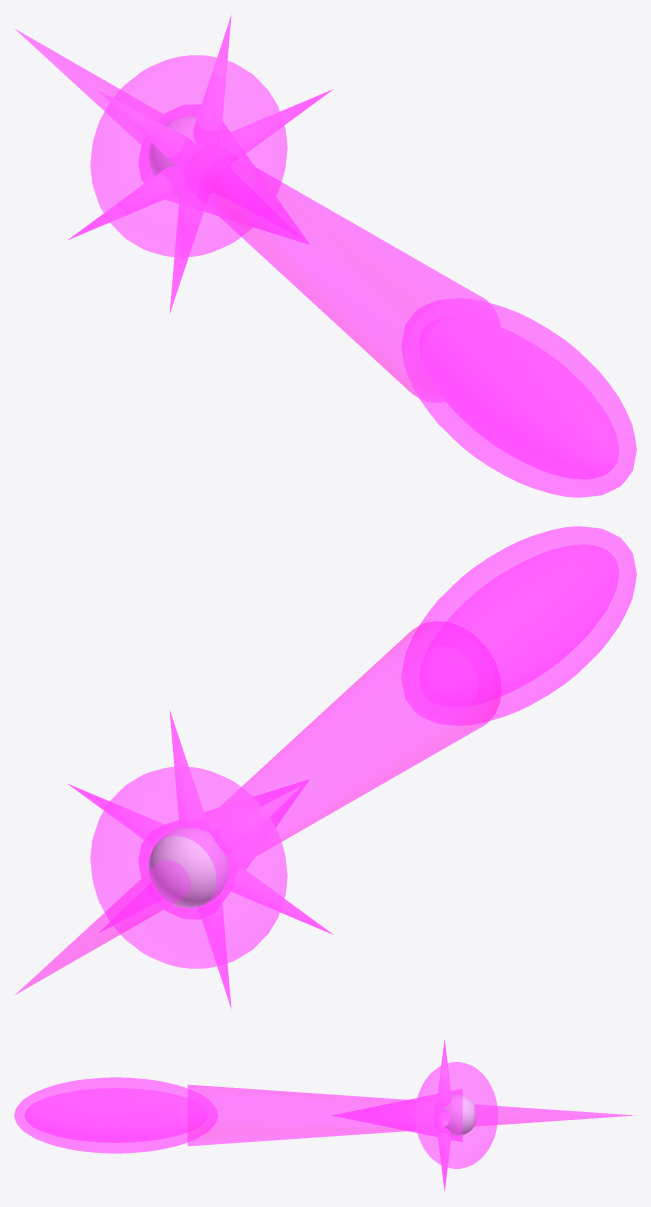
The model's file is Blaster_Bolt.fbx.
3 renders of one model, top to bottom at view 1: azimuth 30°, elevation 25°; view 2: azimuth 150°, elevation 25°; view 3: azimuth 270°, elevation 25°, orthographic. The views are drawn at different scales.
Parts seen in each view (by area): view 1: Blaster_Bolt_Pro_Glass_pink_0.45, Blaster_Bolt_Pro_Glass_pink_0.35, Blaster_Bolt_Pro_Glass_pink_0.4, Blaster_Bolt_Pro_Glow_pink_12, Blaster_Bolt_Pro_Glow_pink_14, Blaster_Bolt_Pro_Glass_pink_0.5, Blaster_Bolt_Pro_Glow_white_25; view 2: Blaster_Bolt_Pro_Glass_pink_0.45, Blaster_Bolt_Pro_Glass_pink_0.35, Blaster_Bolt_Pro_Glass_pink_0.4, Blaster_Bolt_Pro_Glow_pink_12, Blaster_Bolt_Pro_Glow_pink_14, Blaster_Bolt_Pro_Glass_pink_0.5, Blaster_Bolt_Pro_Glow_white_25; view 3: Blaster_Bolt_Pro_Glass_pink_0.35, Blaster_Bolt_Pro_Glass_pink_0.45, Blaster_Bolt_Pro_Glow_pink_12, Blaster_Bolt_Pro_Glass_pink_0.4, Blaster_Bolt_Pro_Glass_pink_0.5, Blaster_Bolt_Pro_Glow_pink_14, Blaster_Bolt_Pro_Glow_white_25.
Part boxes in pixels (x1,y1,x2,y2): Blaster_Bolt_Pro_Glass_pink_0.45: (401,298,636,497); Blaster_Bolt_Pro_Glass_pink_0.35: (15,29,499,402); Blaster_Bolt_Pro_Glass_pink_0.4: (90,55,287,257); Blaster_Bolt_Pro_Glow_pink_12: (419,316,618,479); Blaster_Bolt_Pro_Glow_pink_14: (67,14,333,313); Blaster_Bolt_Pro_Glass_pink_0.5: (138,104,309,244); Blaster_Bolt_Pro_Glow_white_25: (149,116,222,194); Blaster_Bolt_Pro_Glass_pink_0.45: (401,526,636,725); Blaster_Bolt_Pro_Glass_pink_0.35: (15,621,501,994); Blaster_Bolt_Pro_Glass_pink_0.4: (90,767,287,968); Blaster_Bolt_Pro_Glow_pink_12: (419,544,618,707); Blaster_Bolt_Pro_Glow_pink_14: (67,710,333,1009); Blaster_Bolt_Pro_Glass_pink_0.5: (138,779,309,919); Blaster_Bolt_Pro_Glow_white_25: (148,828,228,907); Blaster_Bolt_Pro_Glass_pink_0.35: (187,1084,636,1146); Blaster_Bolt_Pro_Glass_pink_0.45: (14,1077,217,1153); Blaster_Bolt_Pro_Glow_pink_12: (24,1088,207,1142); Blaster_Bolt_Pro_Glass_pink_0.4: (415,1062,497,1168); Blaster_Bolt_Pro_Glass_pink_0.5: (332,1089,462,1141); Blaster_Bolt_Pro_Glow_pink_14: (434,1039,451,1191); Blaster_Bolt_Pro_Glow_white_25: (442,1095,476,1135).
Size of the model in its own units: 0.0936 by 0.0956 by 0.366.
